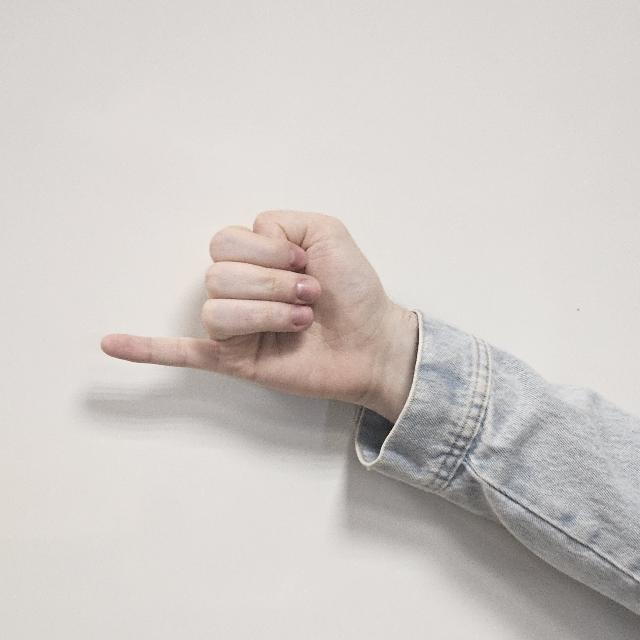Esquerda: (96, 174, 407, 416)
